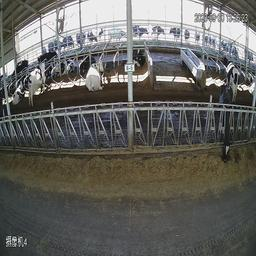cow: (216, 90, 231, 157), (27, 62, 49, 107), (222, 53, 245, 95), (86, 61, 107, 93), (128, 44, 146, 72), (9, 81, 27, 107), (75, 51, 92, 76)
